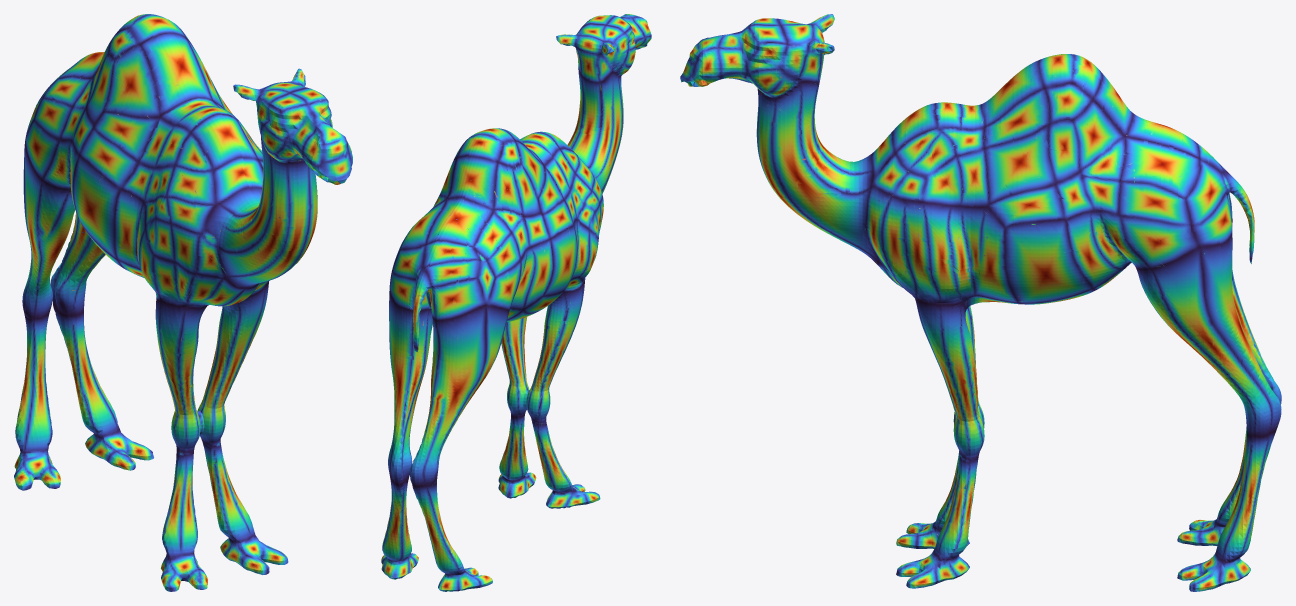
Rendered from gen1.glb.
3 views of the same model, side by side, from view 1: azimuth 30°, elevation 25°; view 2: azimuth 150°, elevation 25°; view 3: azimuth 270°, elevation 25° (orthographic). The views are drawn at different scales.
Parts seen in each view (by area): view 1: Node; view 2: Node; view 3: Node.
Boxes of the visible parts, <box> form: Node: <box>14,14,352,591</box>; Node: <box>381,14,651,591</box>; Node: <box>680,14,1281,591</box>.
Size of the model in its own units: 0.4329 by 1.39 by 1.41.
1 material, 1 textured.
